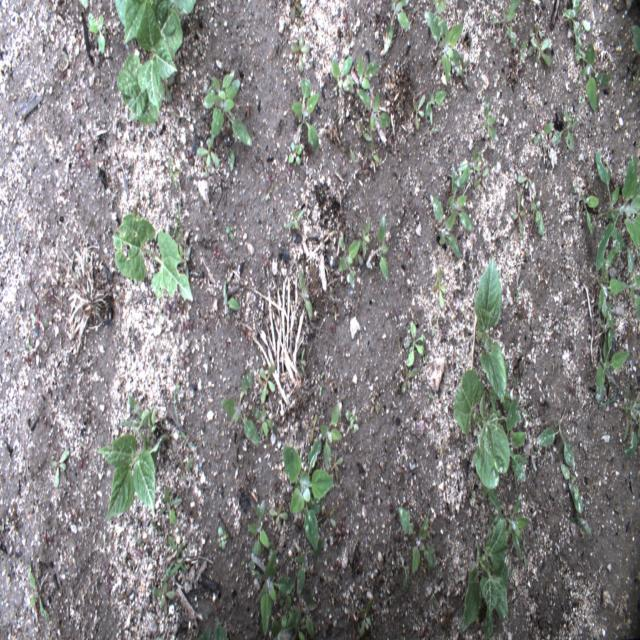crop: (98, 396, 170, 522), (118, 1, 183, 125), (113, 213, 194, 302), (454, 370, 510, 490), (457, 519, 511, 635), (474, 258, 506, 404), (113, 0, 196, 45)
weed: (283, 440, 334, 552), (594, 150, 640, 271), (248, 549, 296, 638), (202, 68, 254, 146), (221, 369, 262, 449), (424, 10, 463, 86), (574, 42, 612, 112), (398, 505, 438, 571), (595, 329, 631, 393), (428, 191, 460, 261), (291, 76, 320, 152), (535, 418, 575, 466), (597, 246, 627, 309), (296, 537, 326, 598), (448, 166, 475, 232), (506, 399, 527, 483), (486, 0, 521, 50), (318, 401, 342, 473), (504, 497, 531, 561), (488, 390, 536, 425), (356, 87, 391, 133), (174, 382, 198, 449), (618, 384, 640, 457), (383, 0, 411, 53), (247, 500, 270, 560), (343, 55, 381, 91), (563, 0, 591, 47), (28, 563, 51, 620), (166, 537, 197, 579), (338, 230, 360, 289), (514, 463, 526, 569), (551, 105, 578, 152), (455, 145, 483, 187), (626, 247, 640, 322), (571, 490, 591, 539), (157, 487, 182, 524), (407, 318, 426, 366), (581, 192, 600, 237), (50, 447, 71, 487), (254, 404, 278, 438), (259, 361, 277, 406), (196, 615, 228, 640), (290, 35, 311, 73), (377, 216, 389, 282), (530, 179, 544, 235), (483, 96, 500, 142), (87, 11, 105, 54), (286, 604, 308, 639), (425, 91, 447, 126), (331, 55, 354, 88), (602, 296, 613, 363), (196, 138, 218, 170), (305, 585, 318, 639), (299, 270, 313, 320), (560, 463, 578, 501), (532, 34, 552, 68), (432, 266, 446, 310), (489, 487, 503, 531), (512, 192, 526, 236), (222, 278, 241, 310), (153, 582, 176, 608), (160, 71, 177, 106), (358, 599, 374, 636), (395, 558, 410, 596), (400, 366, 420, 394), (277, 590, 291, 629), (412, 93, 426, 131), (283, 207, 305, 230), (534, 122, 555, 145), (268, 502, 288, 526), (358, 216, 370, 256), (177, 454, 195, 480), (516, 167, 534, 193), (329, 451, 343, 482), (307, 415, 321, 444), (190, 29, 205, 55), (474, 165, 489, 190), (483, 604, 494, 638), (167, 535, 183, 558), (198, 156, 214, 179), (321, 506, 337, 529), (287, 0, 303, 22), (168, 158, 179, 189), (289, 140, 302, 166), (346, 408, 360, 432), (256, 371, 269, 396), (182, 246, 190, 284), (630, 24, 640, 54), (500, 391, 512, 415), (459, 53, 470, 79), (179, 347, 191, 370), (506, 58, 518, 81), (216, 524, 227, 549), (370, 136, 380, 163), (530, 24, 544, 43), (354, 240, 364, 266), (118, 587, 134, 603), (431, 0, 447, 14), (197, 308, 209, 326), (173, 204, 180, 234), (431, 313, 440, 336), (227, 146, 234, 175), (272, 620, 282, 640), (206, 80, 217, 98), (360, 124, 372, 140), (166, 299, 176, 318), (177, 230, 183, 260), (370, 394, 379, 414), (264, 184, 274, 202), (225, 225, 235, 242), (90, 48, 101, 62), (520, 40, 527, 60), (78, 0, 90, 11), (430, 592, 438, 605), (504, 362, 509, 382), (186, 319, 194, 330), (483, 482, 487, 497), (432, 126, 438, 131)
